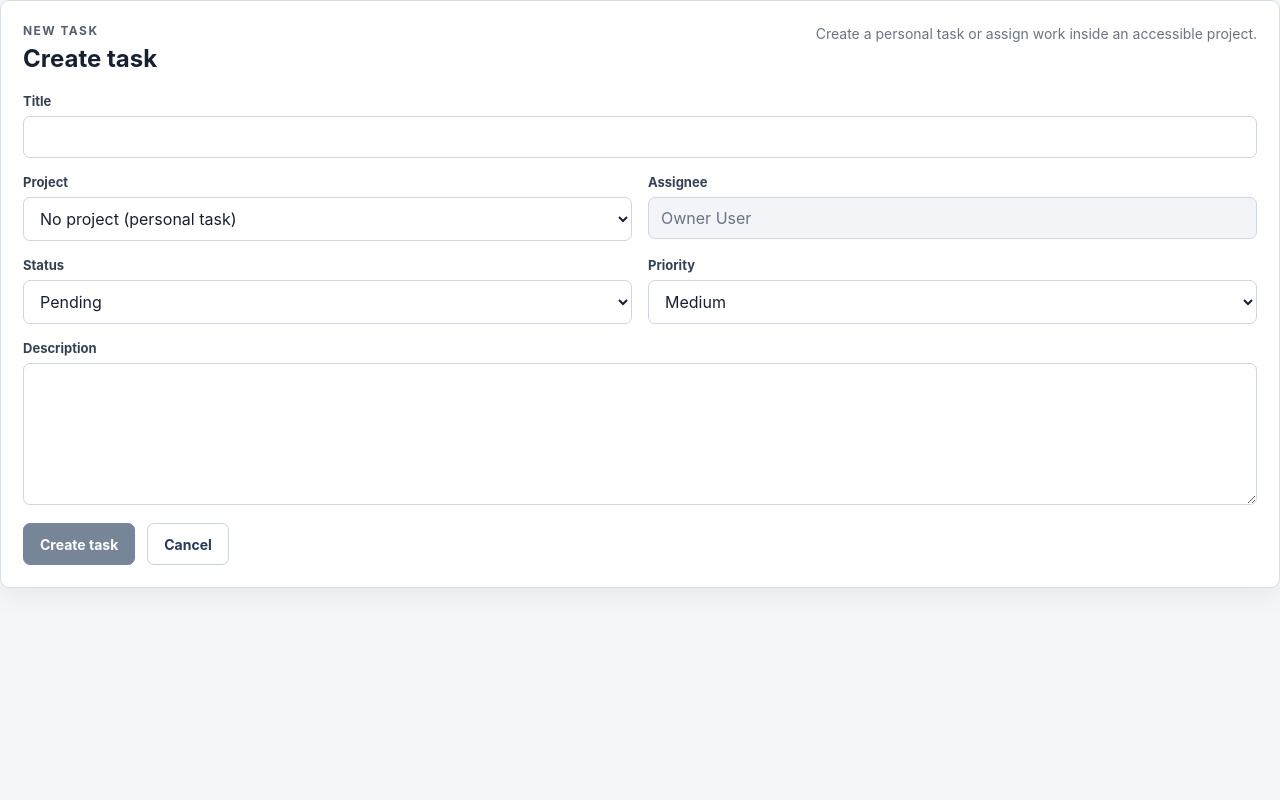
TaskForm › prevents viewers from creating project tasks
Select "Platform Project" in the dropdown labelled "Project" at coordinates (328, 219), box [23, 197, 632, 241]
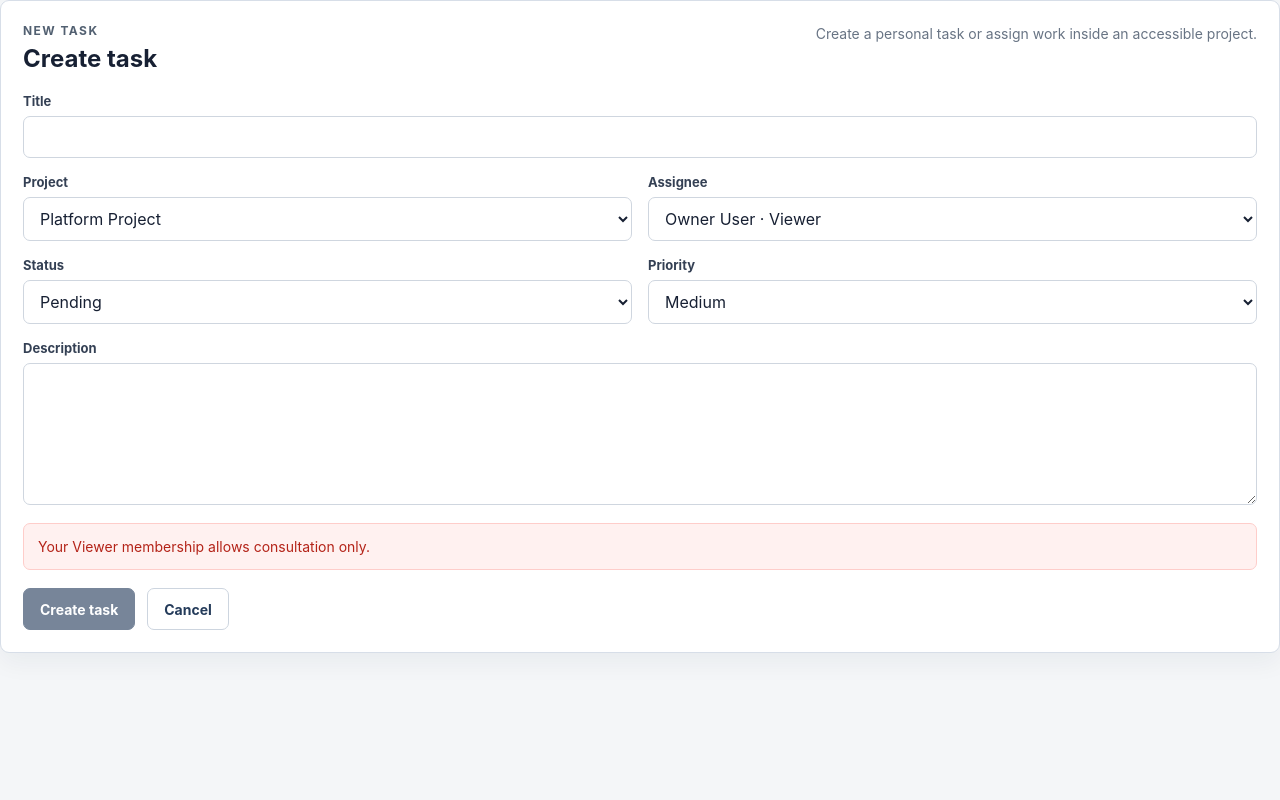
Expected: the button "Create task" is disabled, [23, 588, 135, 630]
Expected: the text "Your Viewer membership allows consultation only." is shown, [23, 523, 1257, 570]
